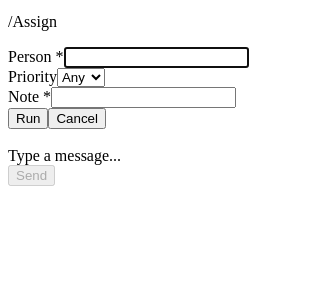
CommandArgumentsForm › says which required value is missing, keeps the typed text and keeps focus in the form
Later steps or results of the test are not shown.
Type "ali" into the dropdown labelled "Person *". click: (156,58)
box: x1=64 y1=47 x2=249 y2=68
Wait 200 ms
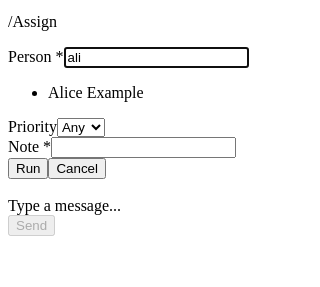
Type "bis Freitag" into the field labelled "Note *". click: (144,148)
box: x1=51 y1=137 x2=236 y2=158
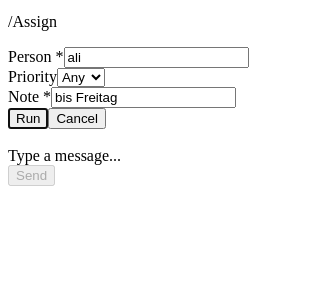
Click the button "Run". click: (28,118)
box: x1=8 y1=108 x2=48 y2=129
Wait 200 ms
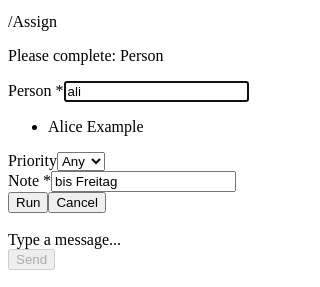
Now the message reads "Please complete: Person", box x1=8 y1=47 x2=164 y2=64
Press Enter in the dropdown labelled "Person *", box x1=64 y1=81 x2=249 y2=102
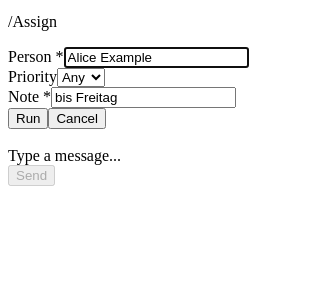
Now the dropdown labelled "Person *" holds "Alice Example", box x1=64 y1=47 x2=249 y2=68
Now the message "Please complete: Person" is gone
